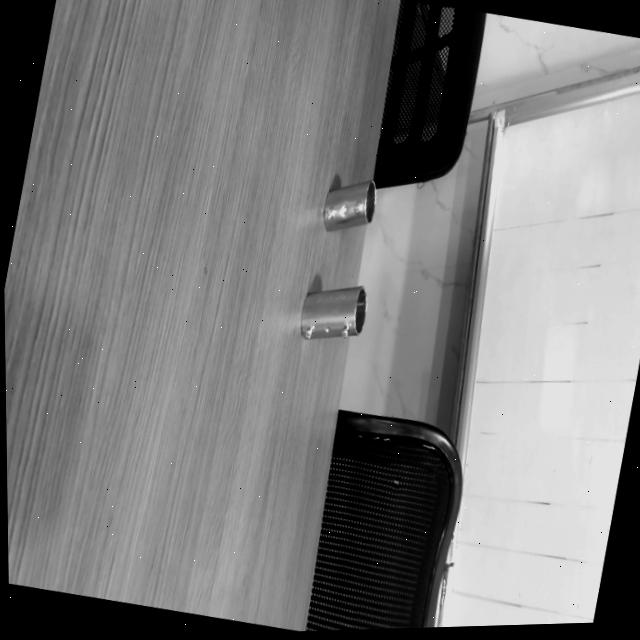Co_Lon: (298, 285, 370, 341)
Co_Nho: (317, 179, 384, 233)
